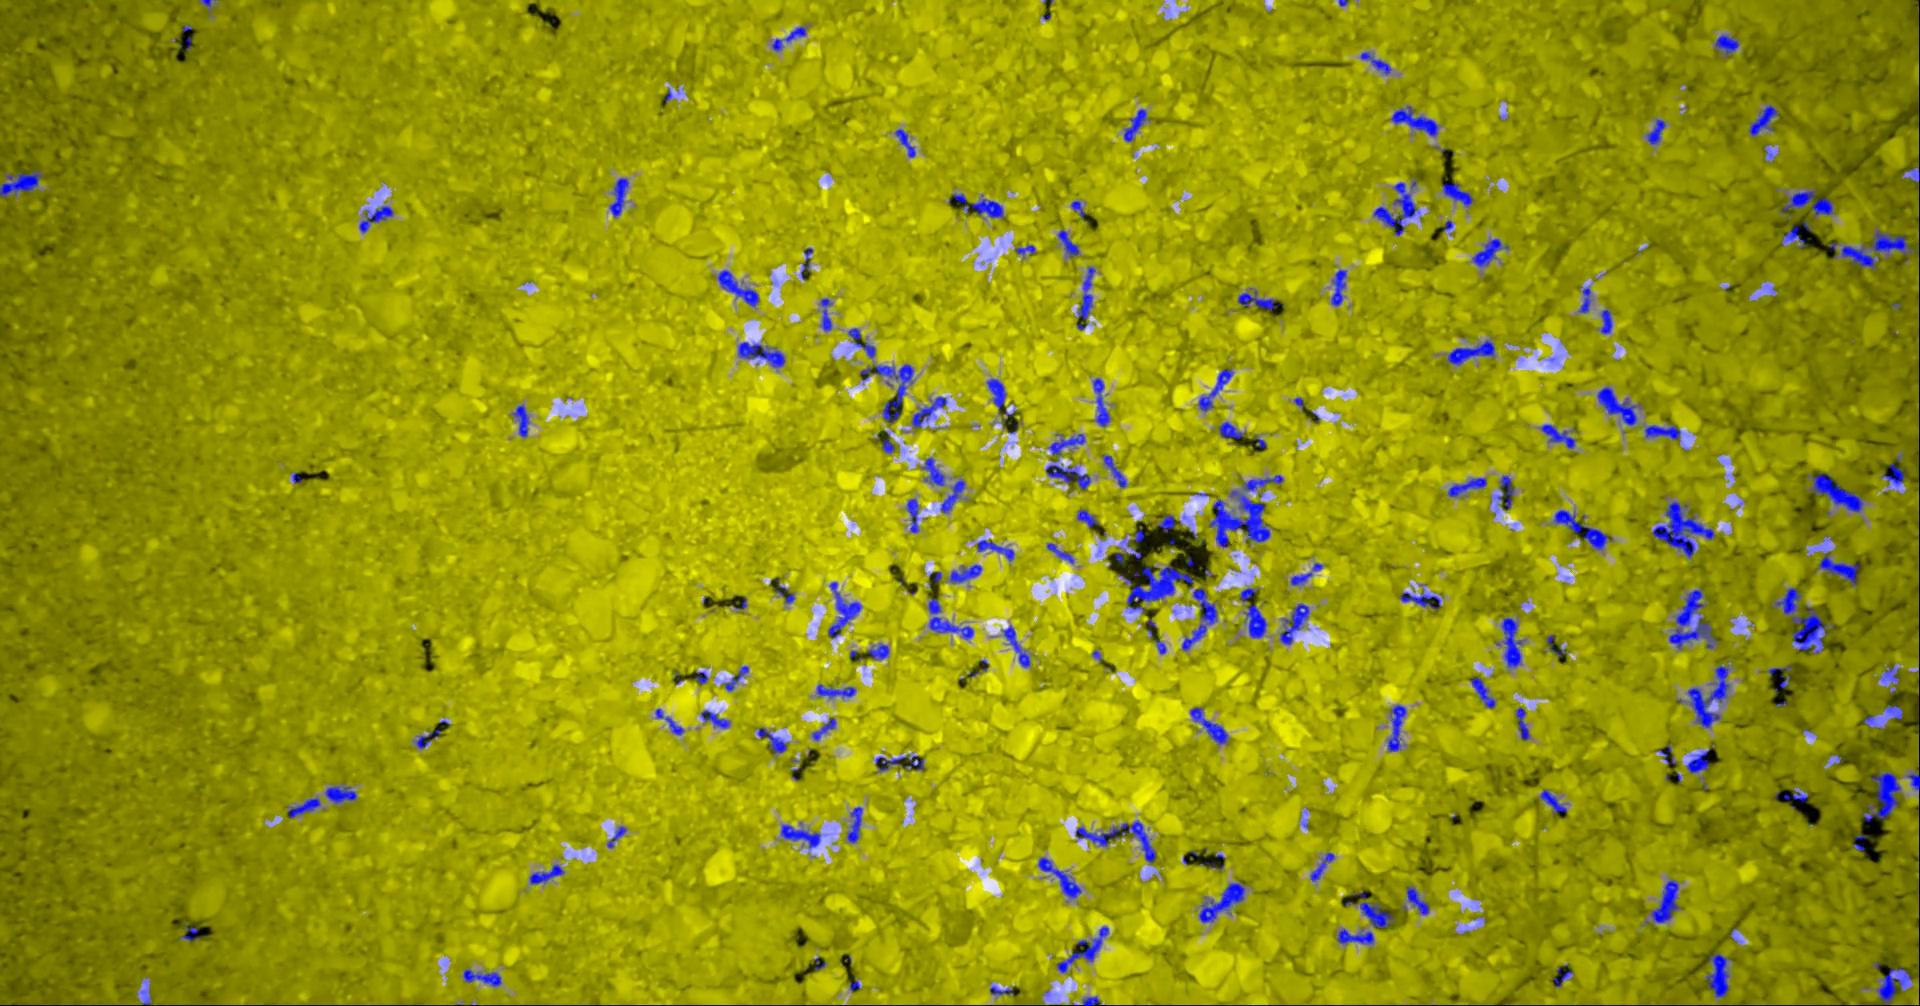ant: (1077, 821, 1157, 862), (861, 365, 916, 422), (1670, 589, 1718, 648), (1689, 666, 1731, 727), (1058, 926, 1110, 972), (1375, 182, 1418, 235), (1556, 509, 1613, 549), (1183, 588, 1218, 650), (1813, 473, 1864, 511), (1864, 771, 1902, 822), (829, 580, 863, 636), (1346, 890, 1396, 929), (930, 597, 975, 638), (1200, 882, 1246, 922), (1039, 857, 1083, 898), (1599, 386, 1638, 426), (1200, 368, 1234, 412), (1392, 105, 1440, 136), (719, 271, 759, 306), (1820, 551, 1862, 586), (988, 379, 1017, 427), (1191, 706, 1229, 743), (1048, 460, 1092, 489), (954, 193, 1004, 218), (1782, 191, 1835, 215), (1879, 967, 1912, 1005), (739, 340, 786, 367), (1870, 230, 1920, 254), (1449, 339, 1496, 365), (1281, 603, 1310, 644), (1, 169, 43, 197), (1652, 880, 1680, 922), (1004, 625, 1031, 667), (913, 396, 949, 427), (1707, 953, 1731, 997), (1474, 238, 1509, 265), (1079, 265, 1097, 319), (1503, 617, 1523, 667), (1750, 104, 1780, 135), (361, 205, 394, 232), (782, 824, 822, 847), (1239, 290, 1283, 310), (773, 25, 808, 51), (1542, 424, 1577, 448), (850, 326, 877, 357), (1389, 704, 1407, 751), (1843, 245, 1878, 268), (1472, 676, 1497, 708), (1095, 377, 1111, 426), (1103, 453, 1128, 486), (978, 539, 1015, 560), (1783, 220, 1812, 246), (759, 727, 789, 753), (942, 480, 966, 512), (1125, 108, 1148, 141), (611, 177, 630, 216), (657, 708, 684, 734), (1051, 433, 1086, 455), (1444, 182, 1474, 206), (531, 864, 566, 884), (877, 754, 924, 770), (1312, 852, 1336, 882), (1449, 478, 1488, 495), (1247, 605, 1269, 636), (1244, 474, 1285, 490), (1402, 592, 1443, 608), (290, 796, 323, 817), (1363, 51, 1392, 74), (463, 969, 503, 986), (1769, 664, 1793, 691), (1542, 789, 1568, 813), (1408, 887, 1431, 915), (1498, 475, 1516, 509), (1059, 229, 1081, 257), (924, 457, 946, 485), (897, 128, 917, 158), (1332, 269, 1349, 305), (726, 666, 750, 690), (813, 716, 837, 741), (1048, 542, 1076, 563), (951, 564, 983, 582), (1338, 929, 1375, 944), (818, 683, 857, 697), (848, 807, 863, 842), (326, 786, 358, 803), (1688, 749, 1710, 772), (1716, 34, 1740, 56), (1884, 464, 1909, 485), (702, 710, 731, 728), (417, 728, 442, 748), (1646, 426, 1683, 439), (514, 404, 530, 436), (1906, 158, 1920, 191), (1517, 708, 1531, 741), (1648, 119, 1667, 144), (1220, 420, 1244, 439), (608, 826, 629, 847), (1554, 964, 1575, 986), (1548, 634, 1567, 657), (1777, 789, 1810, 801), (775, 584, 796, 603), (1159, 514, 1182, 532), (908, 498, 919, 532), (1078, 509, 1100, 527), (803, 246, 814, 279), (822, 298, 833, 330), (1580, 286, 1592, 312), (1660, 744, 1677, 763), (869, 644, 890, 659), (1074, 995, 1105, 1005), (883, 431, 897, 452), (1291, 572, 1313, 586), (1884, 666, 1901, 683), (184, 925, 202, 941), (1603, 309, 1614, 333), (1072, 199, 1087, 217), (1886, 704, 1903, 719), (1241, 587, 1258, 601), (1909, 772, 1920, 794), (990, 984, 1015, 995), (1854, 835, 1868, 850), (1016, 245, 1037, 254), (697, 671, 709, 683), (1135, 528, 1145, 542)
